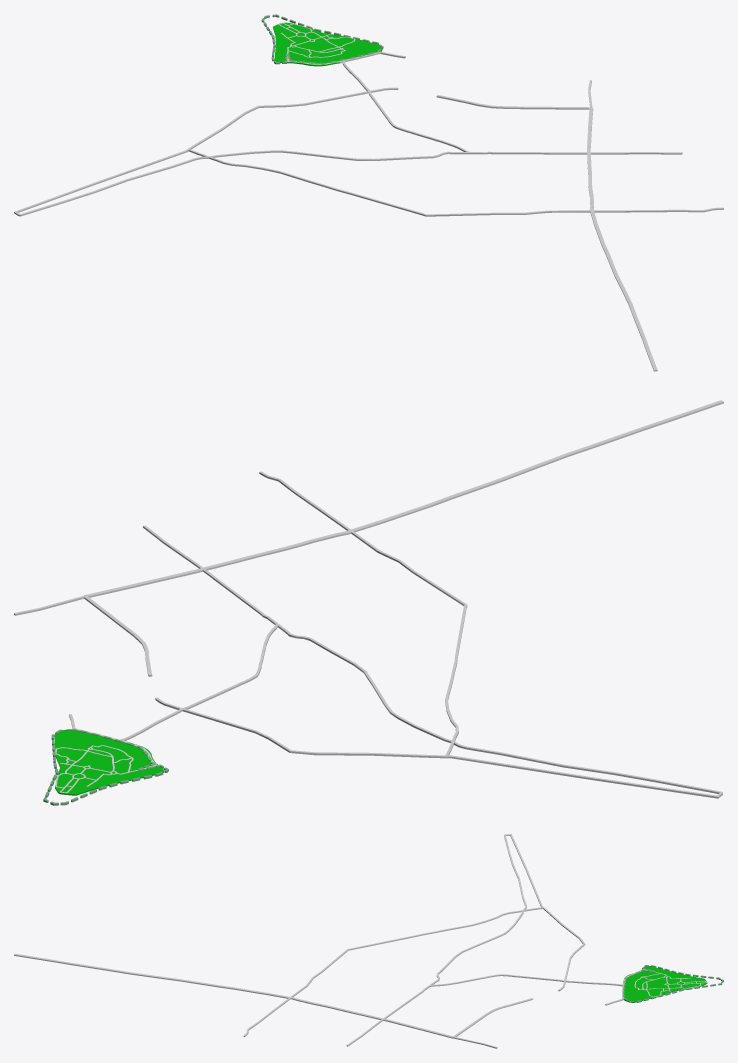
The picture shows the model from 3 angles, top to bottom: view 1: azimuth 30°, elevation 25°; view 2: azimuth 150°, elevation 25°; view 3: azimuth 270°, elevation 25°; orthographic projection. The views are drawn at different scales.
Visible parts, largest first — view 1: R8, green, R4, LK, R11; view 2: R8, green, R4, LK, R11; view 3: R8, green, R4, LK, R11.
Boxes of the visible parts, bbox=[...] form: R8: bbox=[14, 51, 723, 216]; green: bbox=[273, 22, 382, 66]; R4: bbox=[587, 108, 657, 371]; LK: bbox=[261, 14, 383, 64]; R11: bbox=[278, 22, 355, 57]; R8: bbox=[14, 471, 722, 798]; green: bbox=[55, 729, 164, 795]; R4: bbox=[84, 400, 723, 597]; LK: bbox=[43, 728, 168, 805]; R11: bbox=[55, 745, 138, 793]; R8: bbox=[243, 834, 651, 1048]; green: bbox=[623, 966, 707, 1002]; R4: bbox=[14, 953, 452, 1038]; LK: bbox=[623, 965, 723, 1002]; R11: bbox=[634, 972, 706, 996].
Size of what is drawn, in the model's own units: 17.42 by 0.0518 by 24.47.
